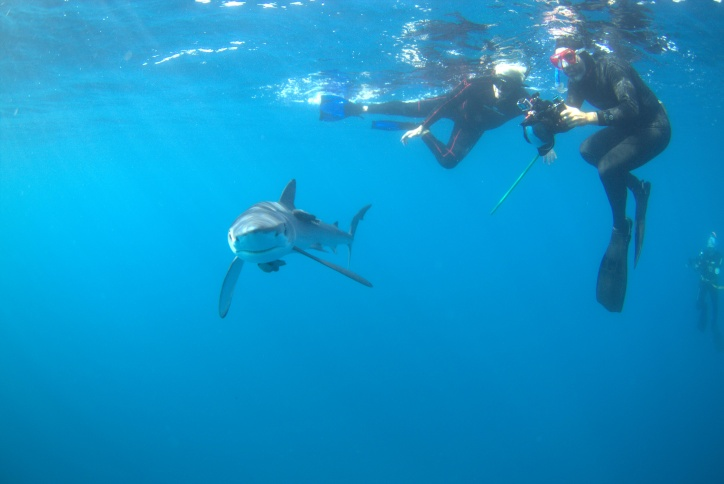Azul: (156, 153, 416, 328)
